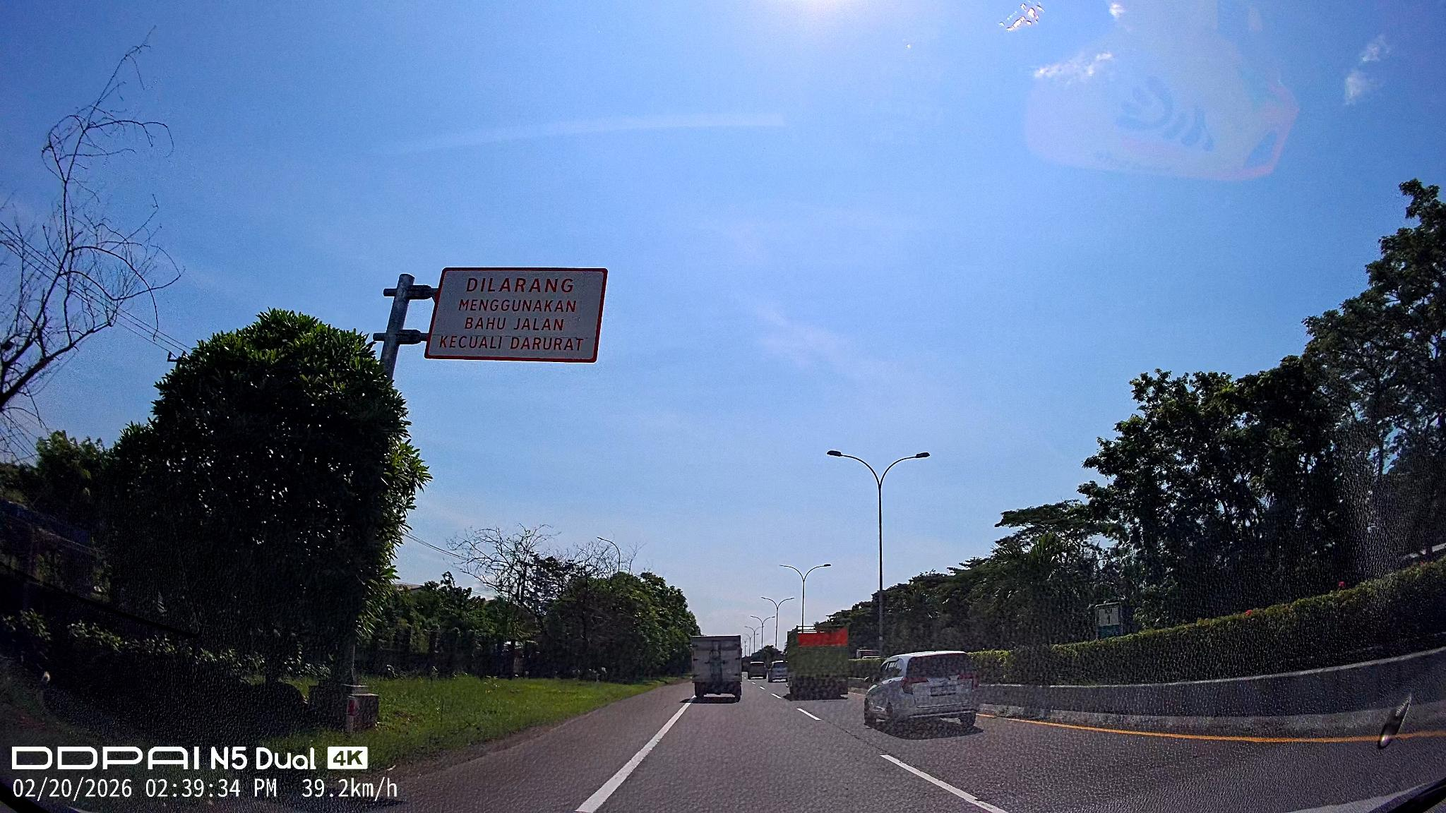rambu_teks: (423, 264, 609, 366)
